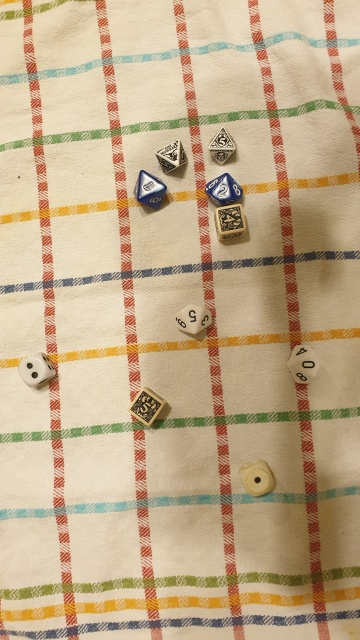d10-10: (279, 339, 324, 392)
d10-2: (200, 166, 250, 207)
d10-5: (170, 302, 216, 340)
d10-7: (127, 166, 167, 215)
d6-1: (234, 457, 281, 503)
d6-2: (14, 351, 58, 391)
d6p-4: (210, 202, 250, 240)
d6p-5: (121, 385, 169, 431)
d8p-1: (152, 137, 189, 177)
d8p-5: (205, 125, 239, 166)
